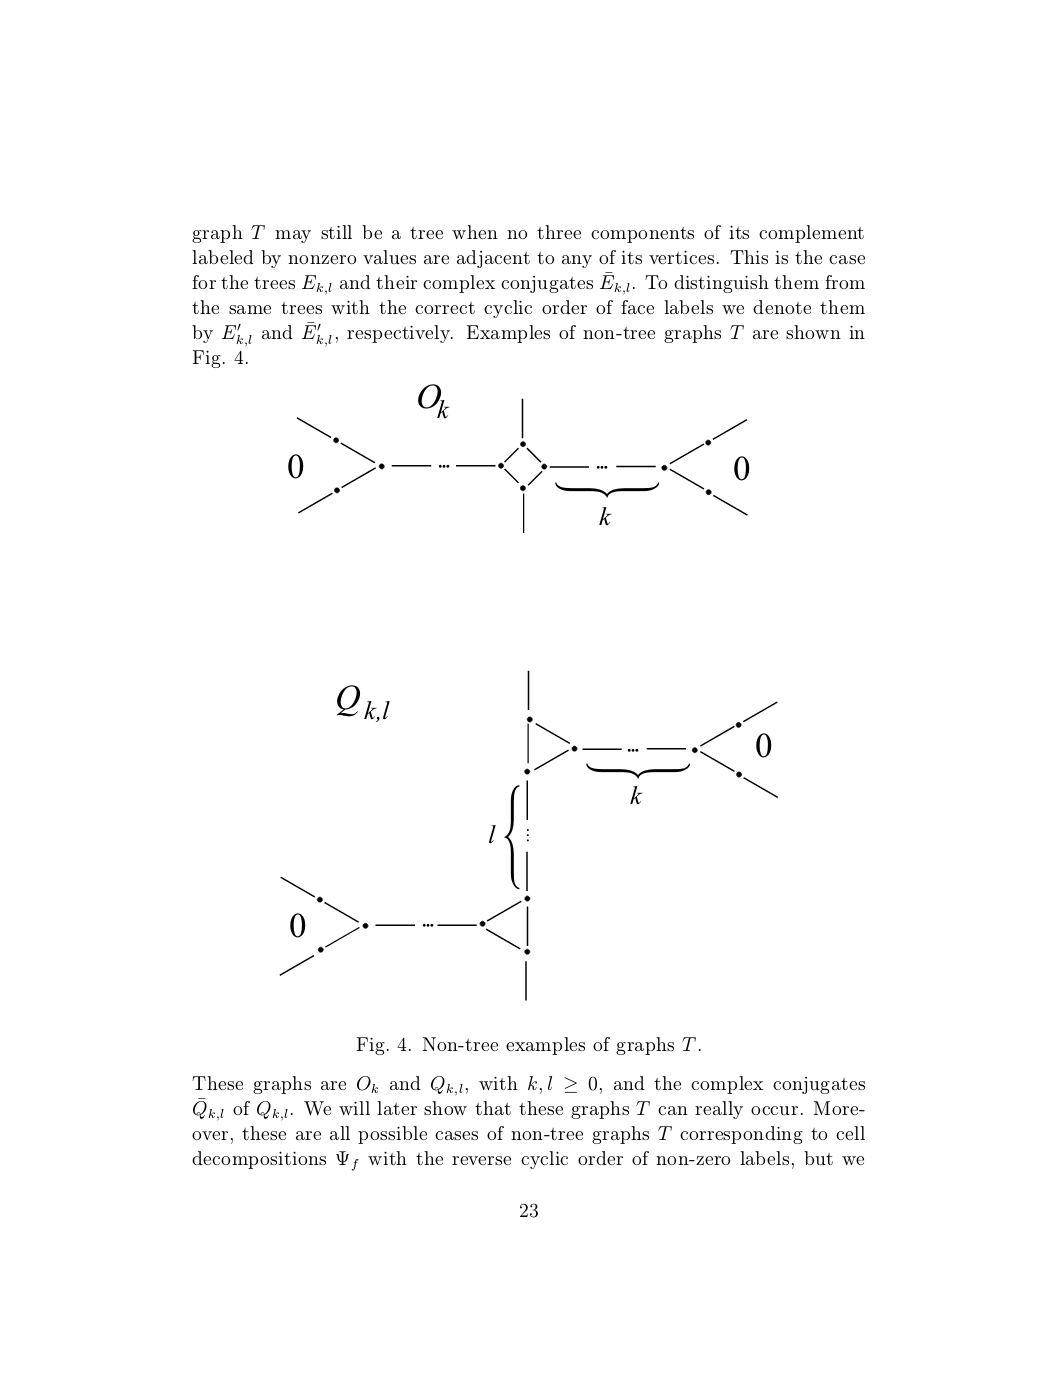figure: (279, 669, 778, 1001), (288, 382, 749, 533)
